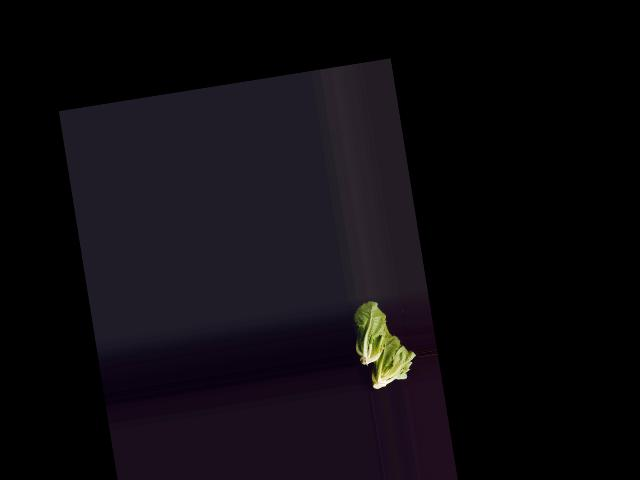lettuce: (357, 322, 419, 390)
